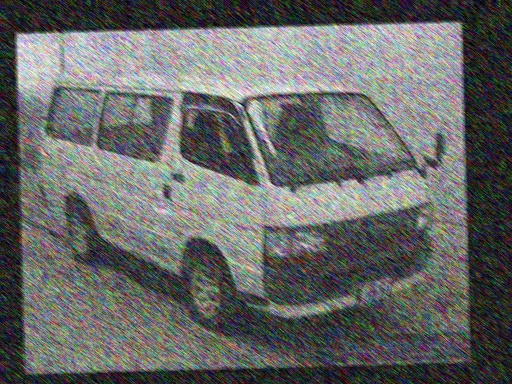van: (43, 53, 446, 334)
